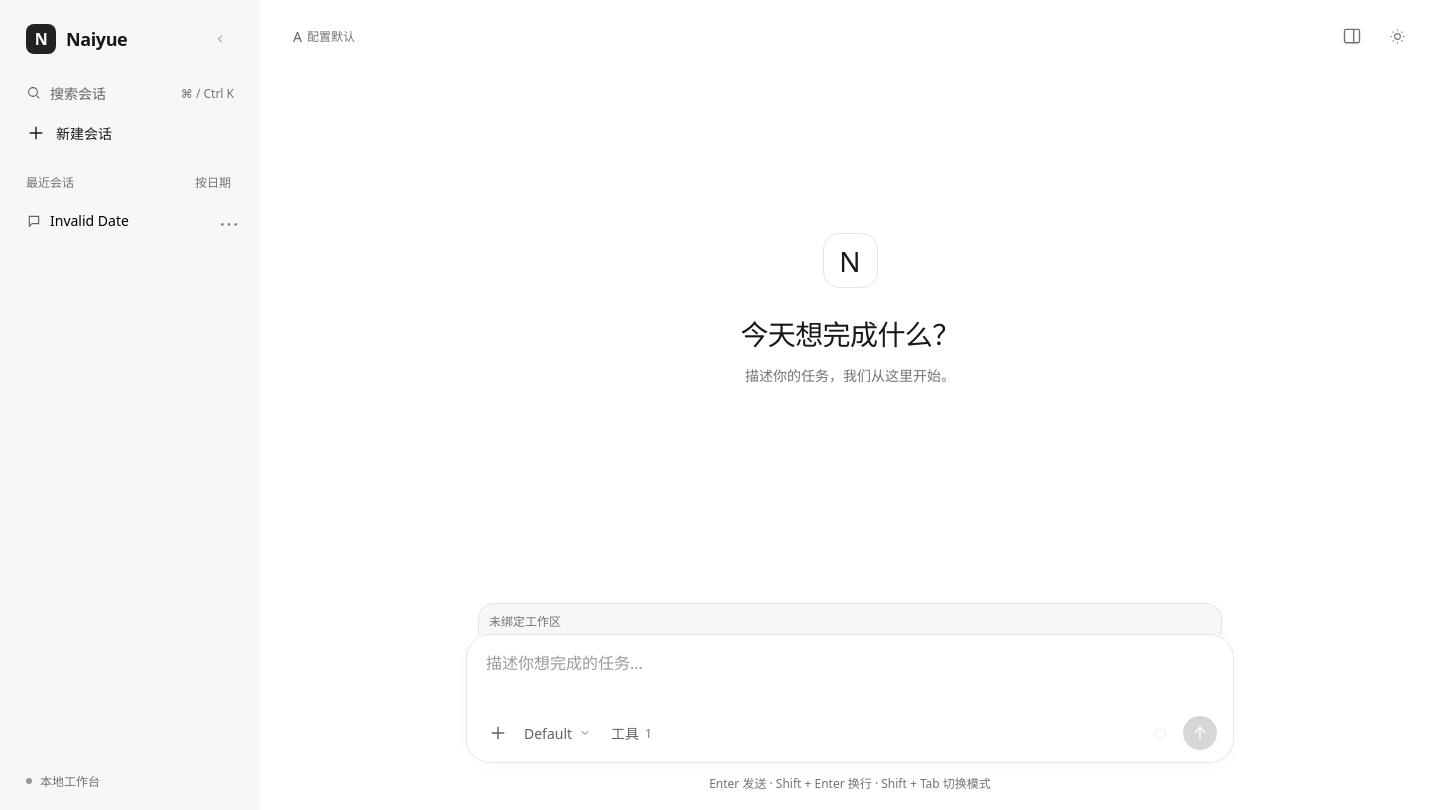
Test: shows an option loading error and retries without creating a session
This screenshot has width=1440, height=810.
Click the button with aria-label "权限模式：Default". click: click(558, 733)
box: [516, 716, 600, 750]
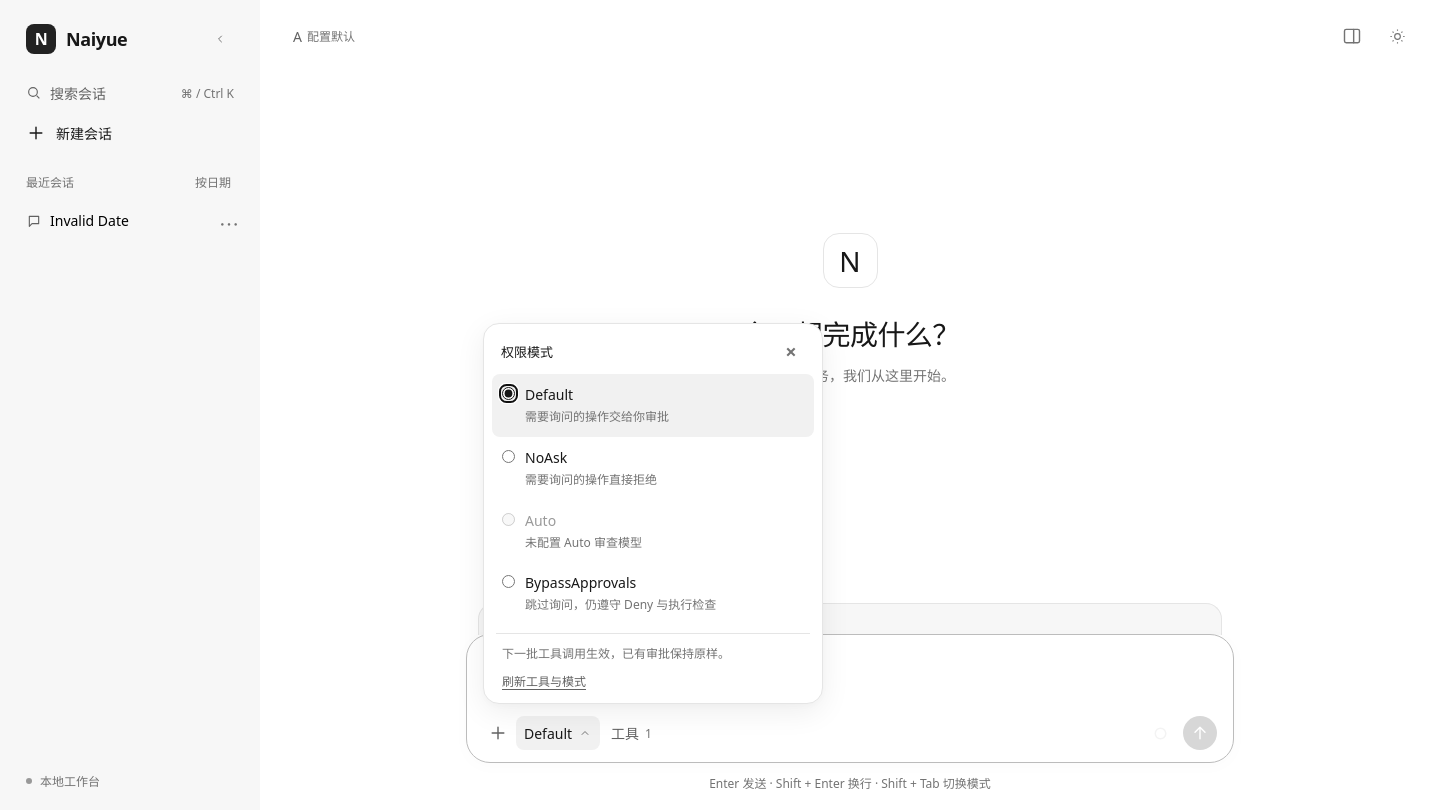
Click the button "刷新工具与模式". click: click(544, 681)
box: [496, 667, 592, 695]
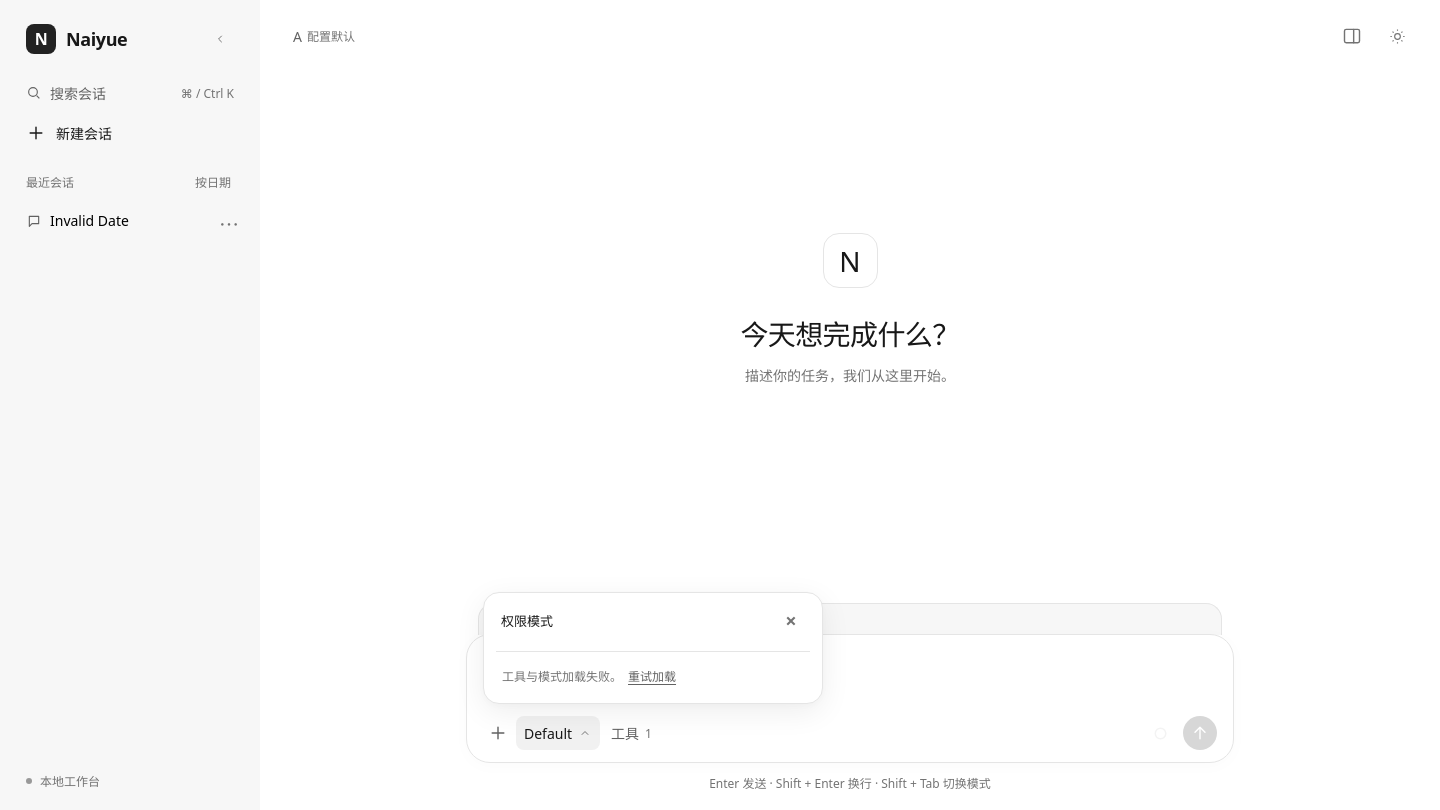
Result: the text "工具与模式加载失败。 重试加载" is shown at [496, 651, 810, 695]
Click the button "重试加载". click: click(652, 677)
box: [622, 662, 682, 692]
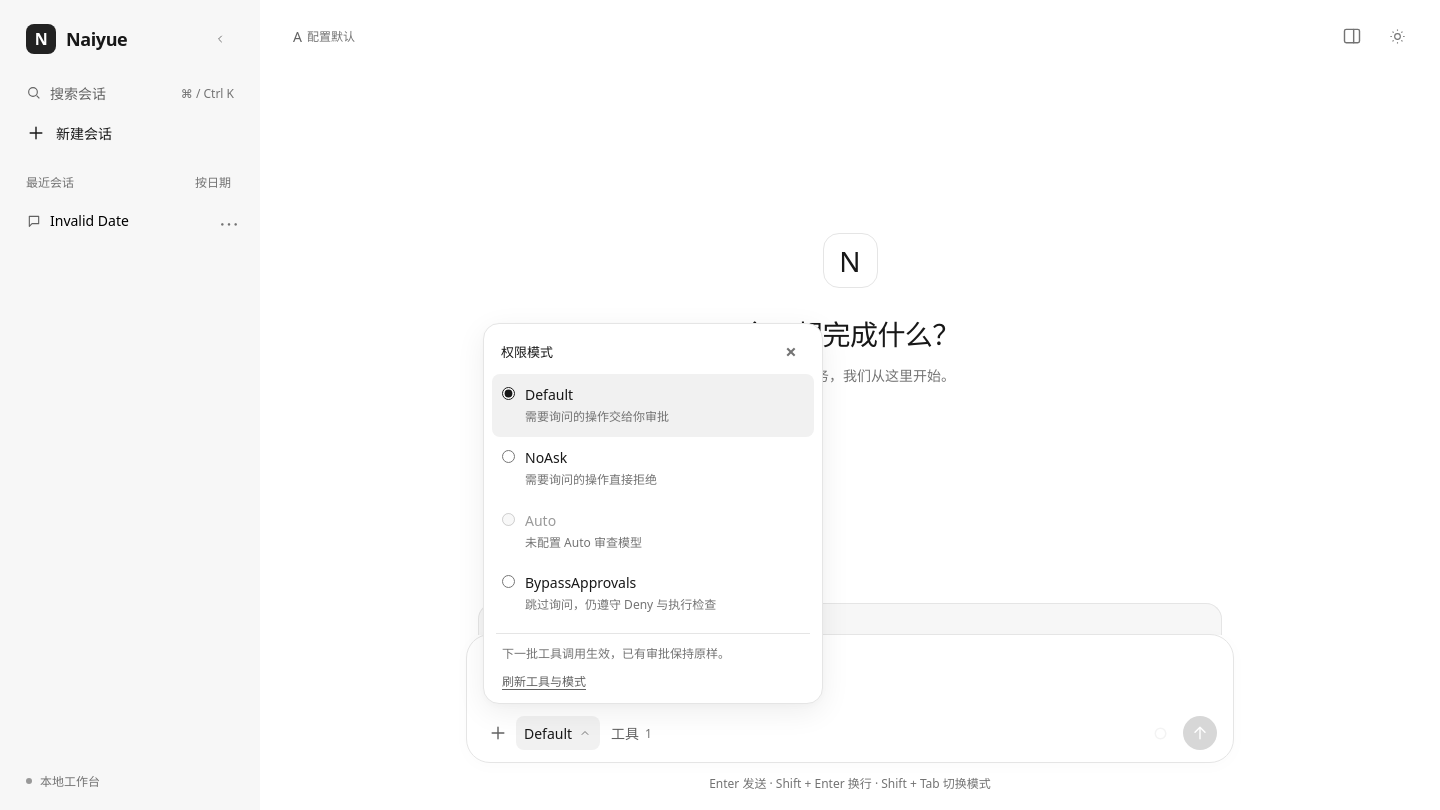
Result: the radio button labelled "Default 需要询问的操作交给你审批" is shown at [502, 387, 515, 400]
